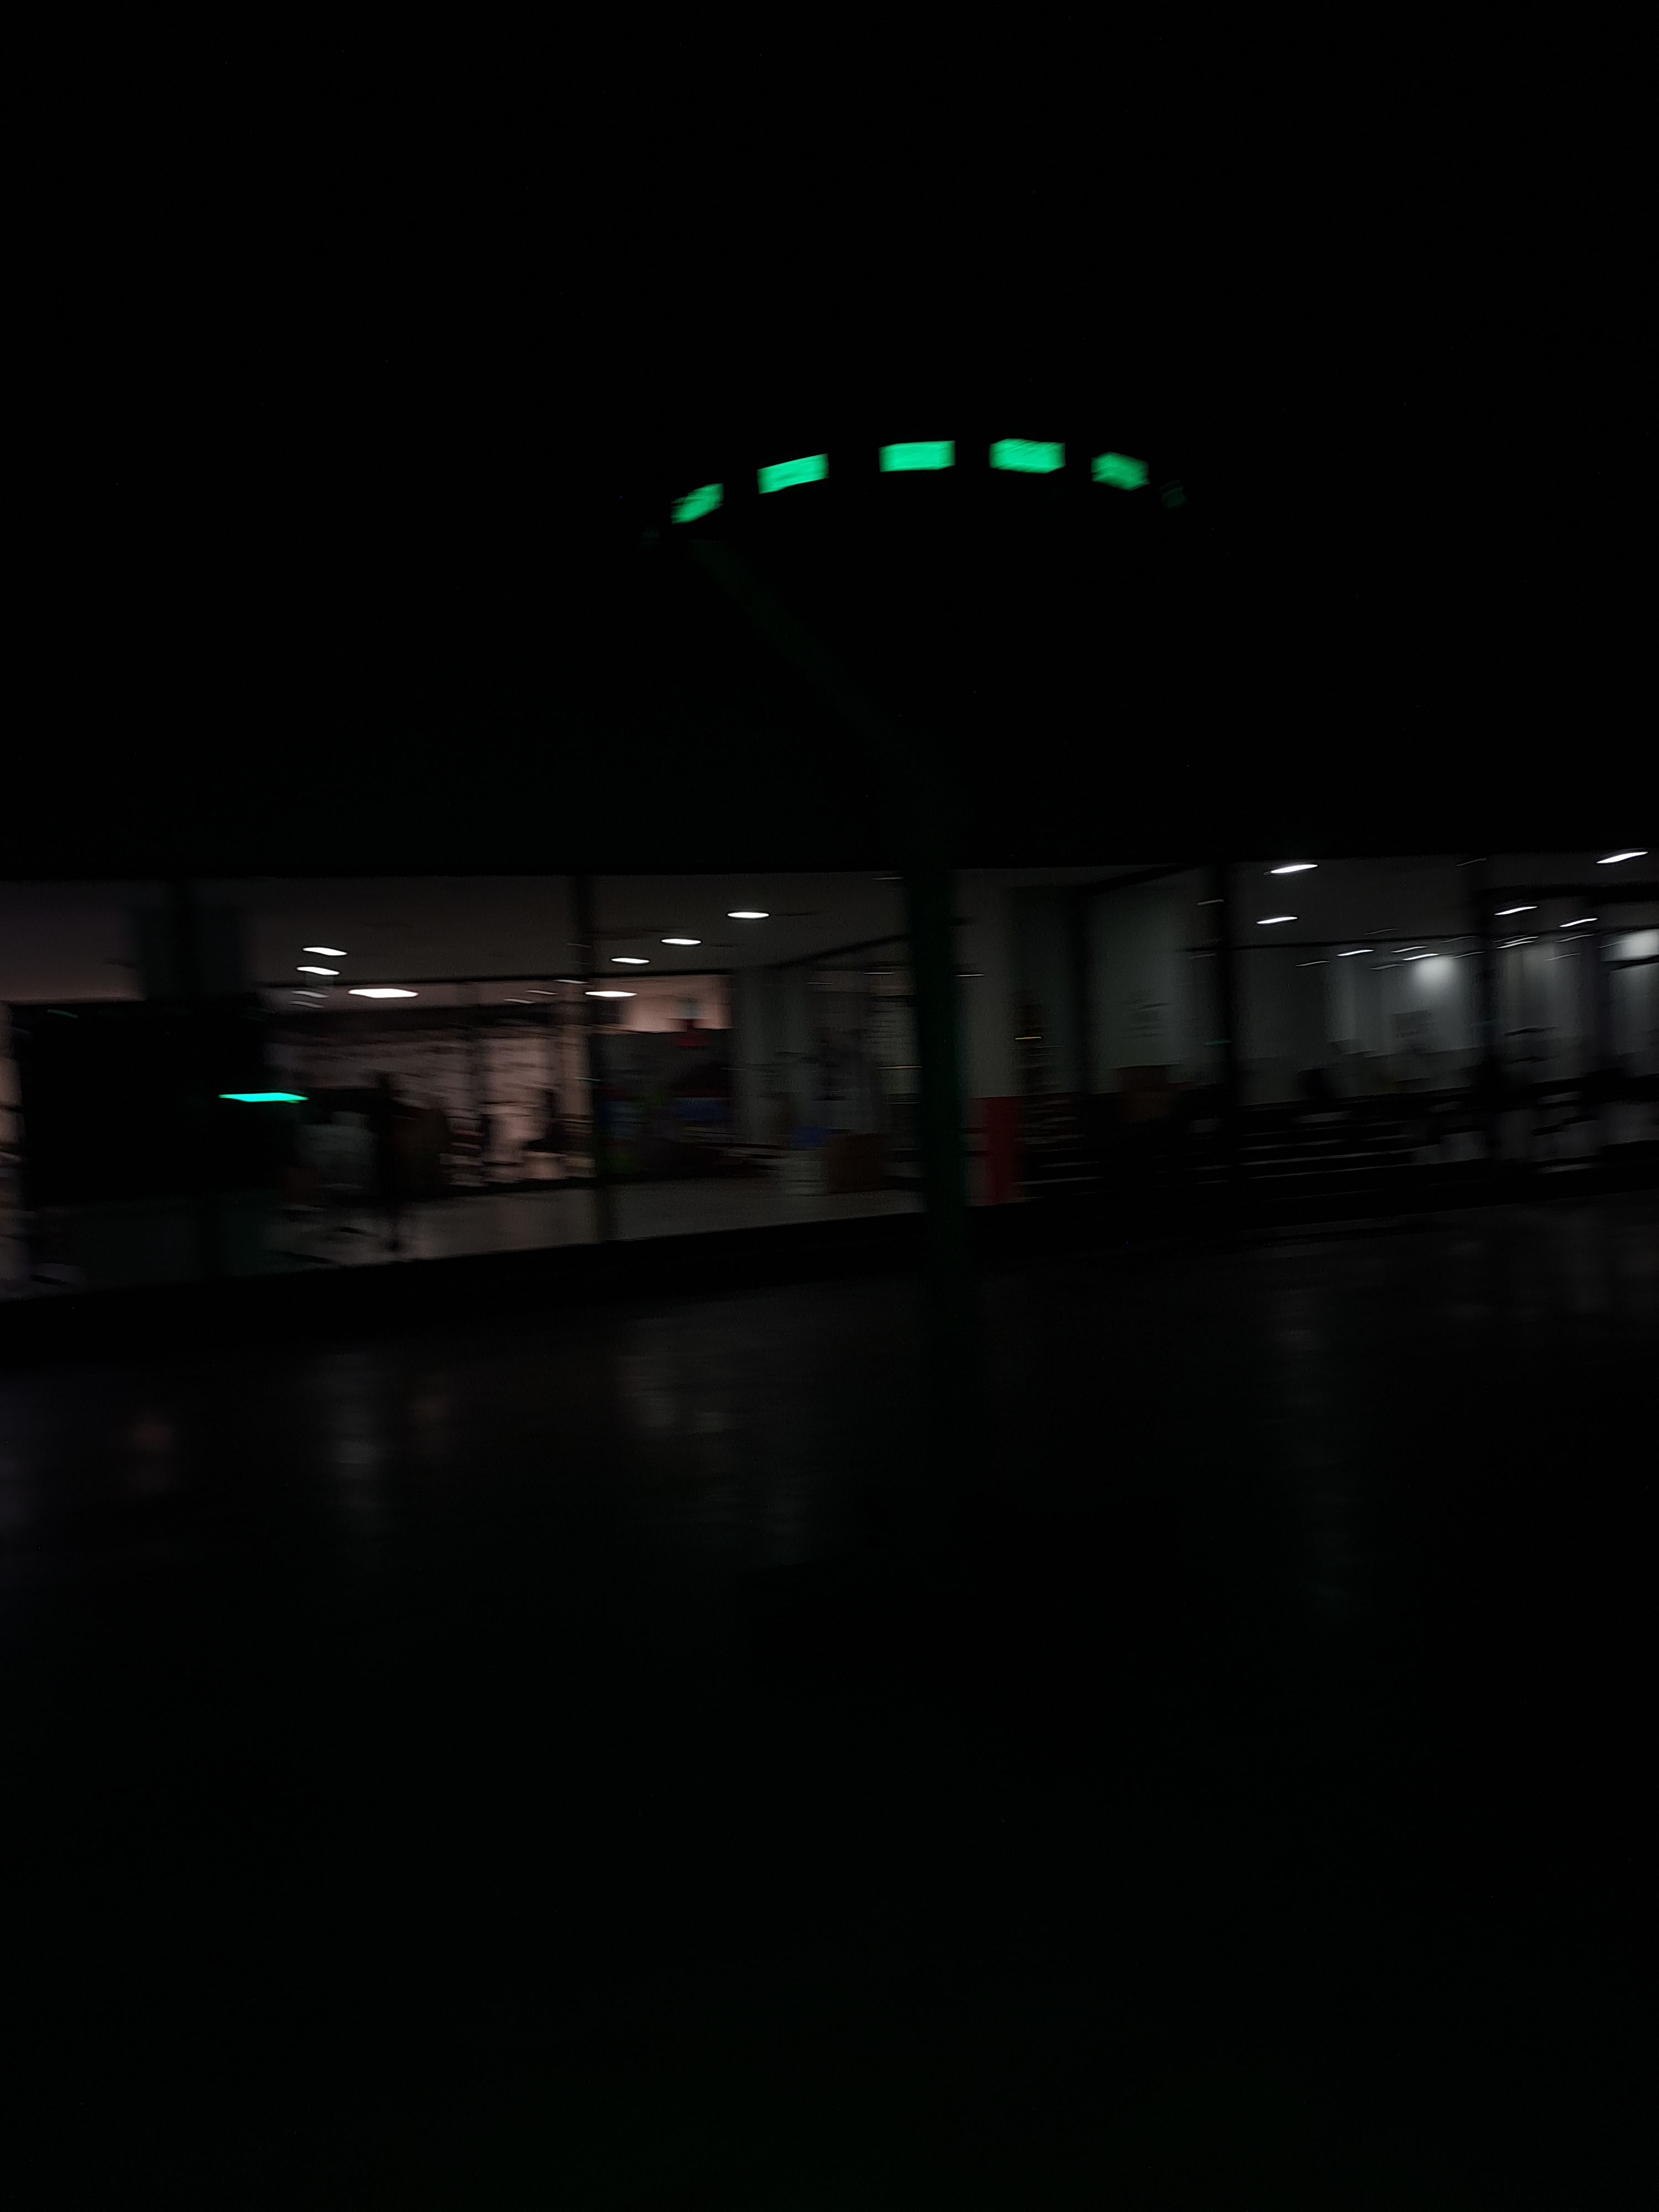hoop: (659, 437, 1154, 535)
